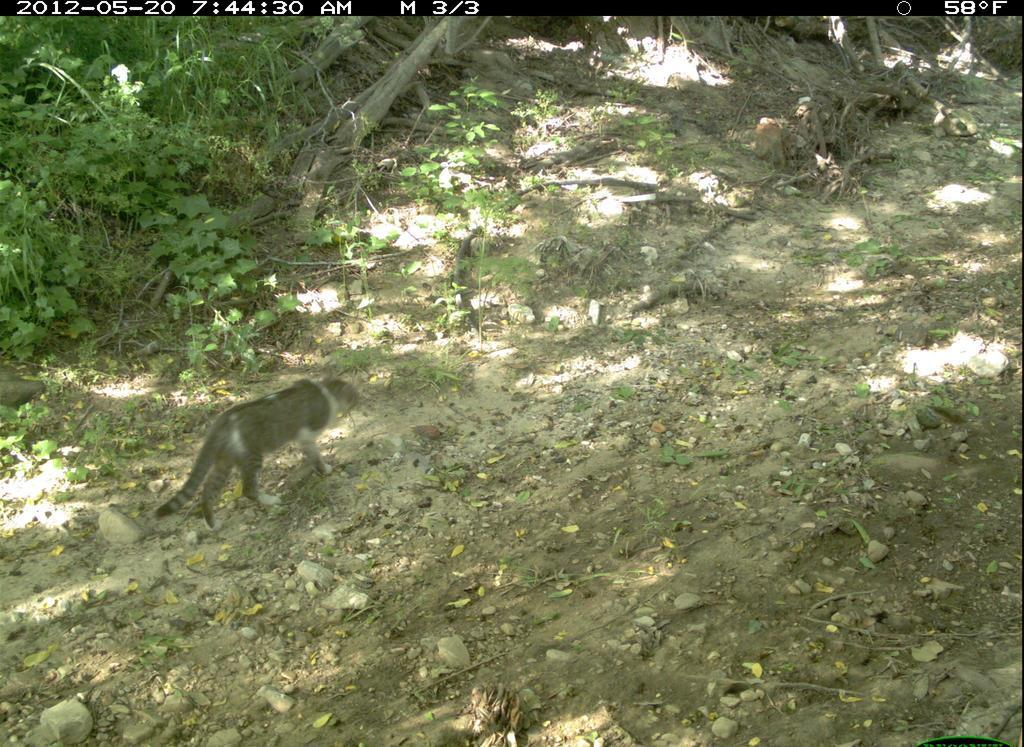cat: (146, 368, 373, 538)
